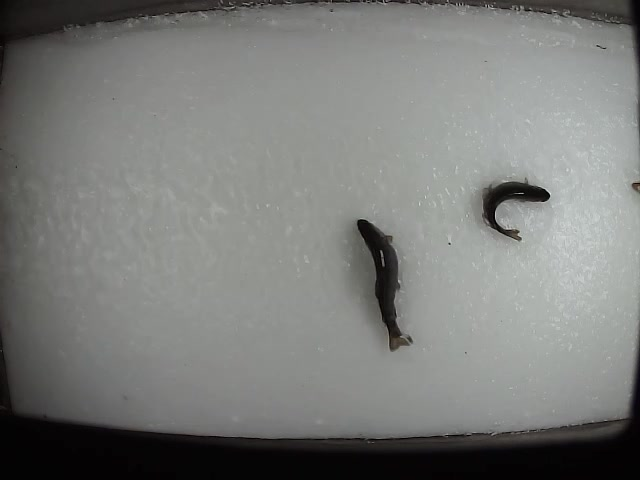fish: (355, 214, 414, 353), (480, 174, 551, 245)
